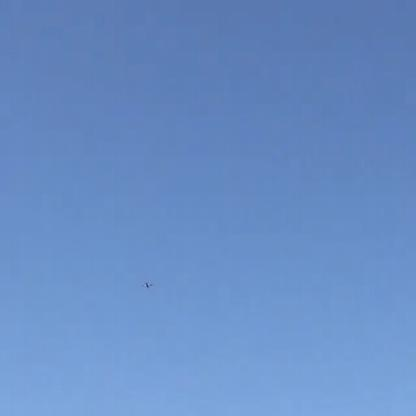CIV_Plane: (139, 276, 155, 294)
